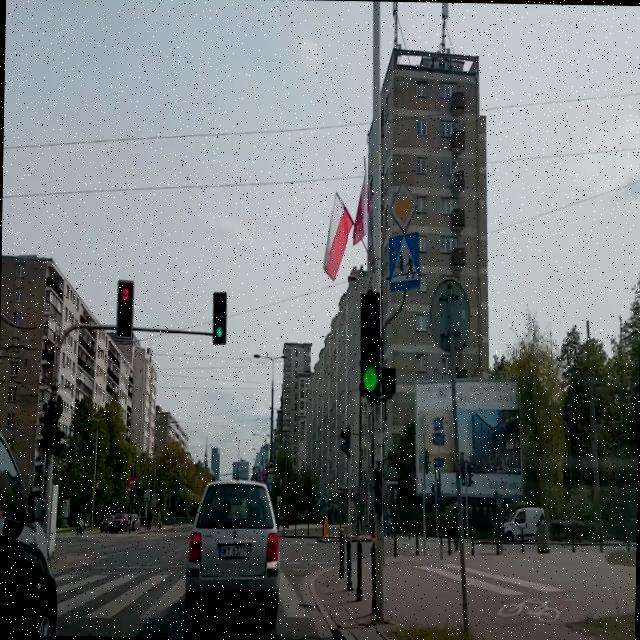Droga z pierwszenstwem: (388, 180, 418, 230)
Zakaz wjazdu: (128, 476, 136, 488)
